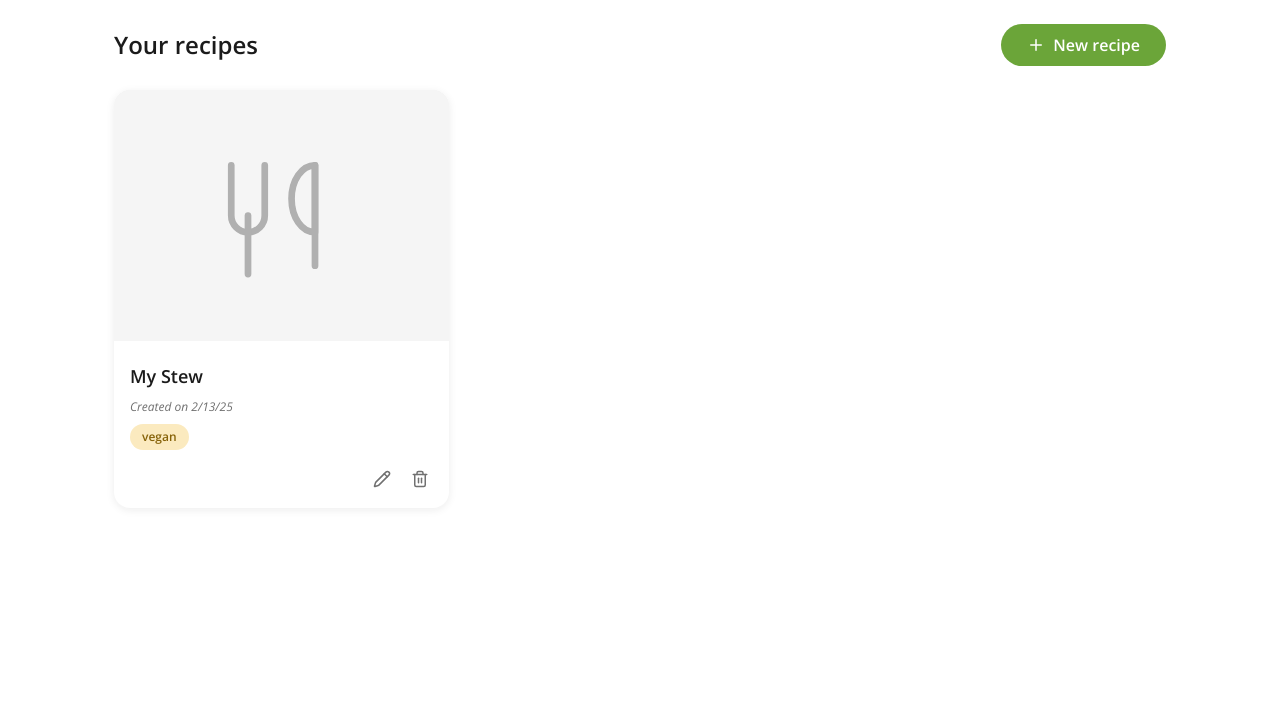
Test: Dashboard page › shows a specific message and removes the recipe on a 404 while editing
Expected: the heading "My Stew" is shown, [130,364,203,388]
Click the button named "Edit My Stew" at point(382, 479), box [369,466,395,492]
(page scrolled)
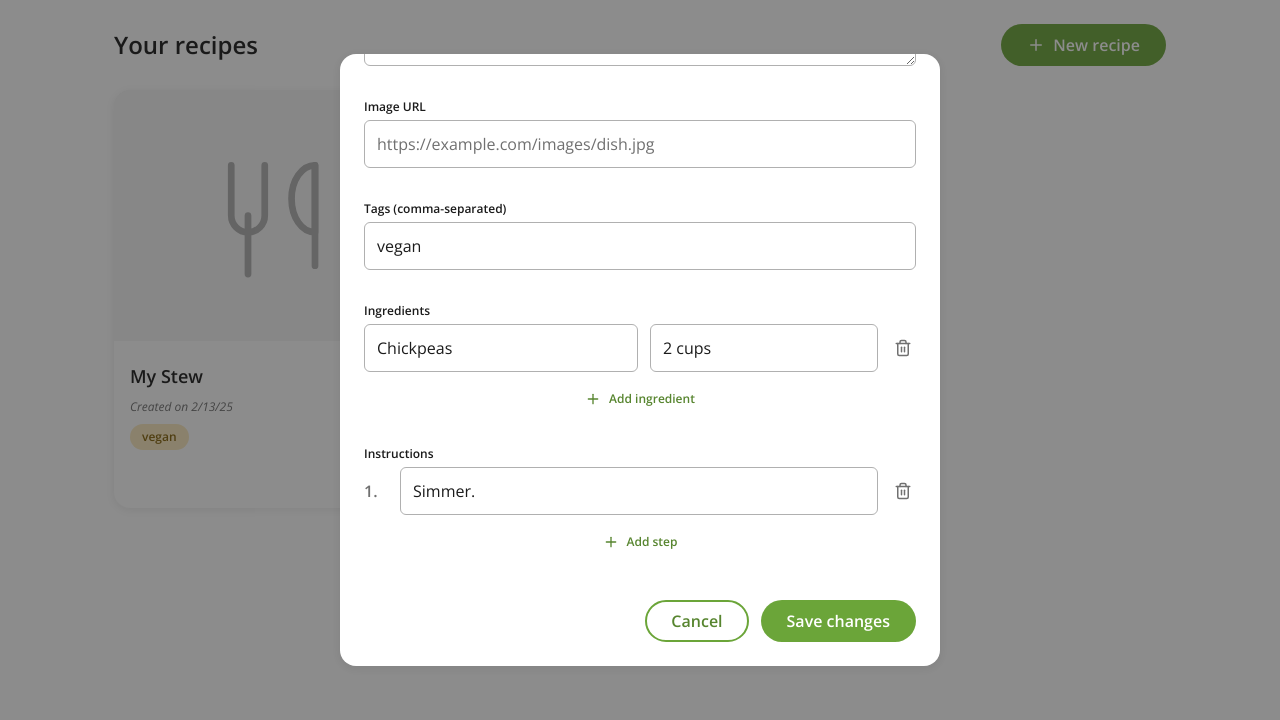
Click the button "Save changes" at point(838, 621), box [761,600,916,642]
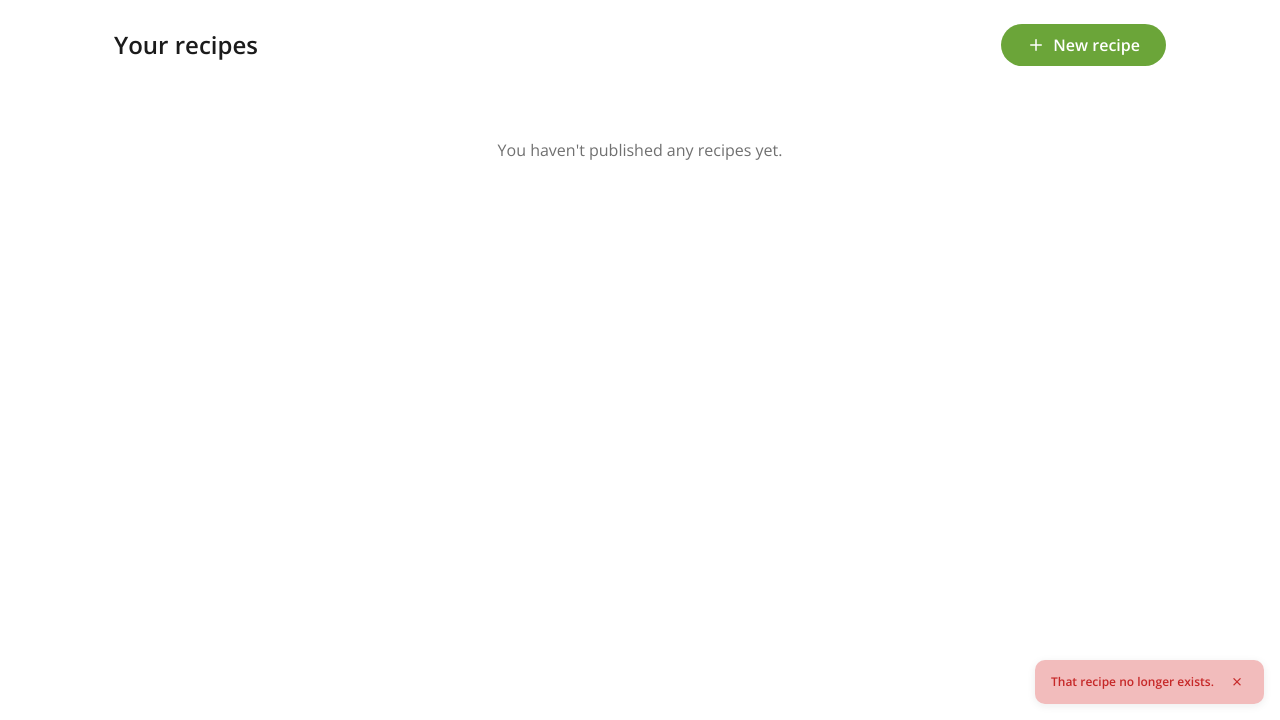
Result: the text "That recipe no longer exists." is shown at [1051,673,1214,691]
